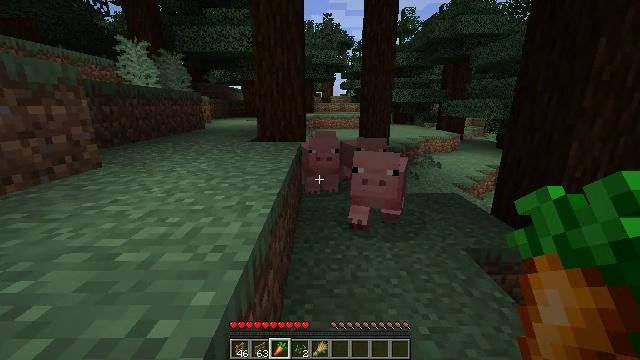pig: (347, 152, 409, 226), (342, 136, 390, 184), (303, 134, 340, 194)
